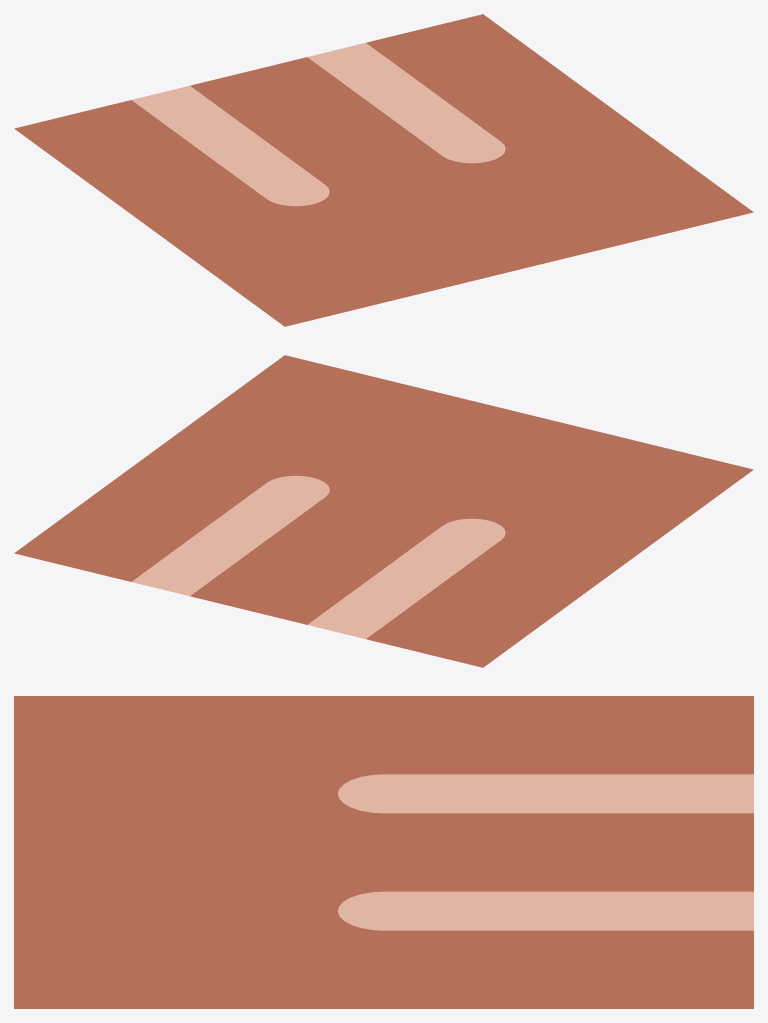
Rendered from terrain_roadEnd.glb.
3 renders of one model, top to bottom at view 1: azimuth 30°, elevation 25°; view 2: azimuth 150°, elevation 25°; view 3: azimuth 270°, elevation 25°, orthographic. The views are drawn at different scales.
Visible parts, largest first — view 1: terrain_roadEnd; view 2: terrain_roadEnd; view 3: terrain_roadEnd.
Boxes of the visible parts, x1=… form: terrain_roadEnd: x1=14, y1=14, x2=753, y2=326; terrain_roadEnd: x1=14, y1=355, x2=753, y2=667; terrain_roadEnd: x1=14, y1=696, x2=753, y2=1008.
Size of the model in its own units: 1.3 by 0 by 1.3.
